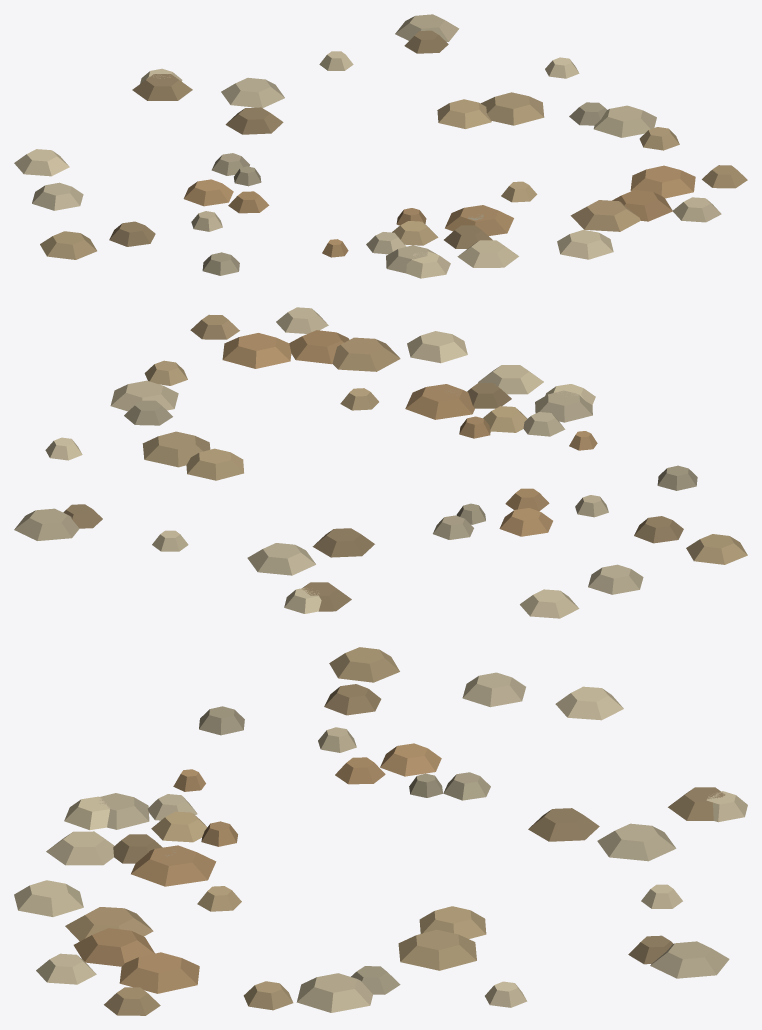
File: dam_survey_gate_red_detail2.glb
The picture shows the model from 3 angles, top to bottom: view 1: azimuth 30°, elevation 25°; view 2: azimuth 150°, elevation 25°; view 3: azimuth 270°, elevation 25°; orthographic projection. The views are drawn at different scales.
Parts seen in each view (by area): view 1: dam_survey_gate_red_detail2; view 2: dam_survey_gate_red_detail2; view 3: dam_survey_gate_red_detail2.
Boxes of the visible parts, box(x1,y1,x2,y2) form: dam_survey_gate_red_detail2: box(14, 14, 747, 278); dam_survey_gate_red_detail2: box(14, 307, 747, 618); dam_survey_gate_red_detail2: box(14, 647, 747, 1015).
Size of the model in its own units: 6.42 by 0.1 by 5.48.
